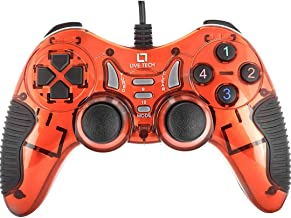gamingconsole: (1, 22, 291, 218)
